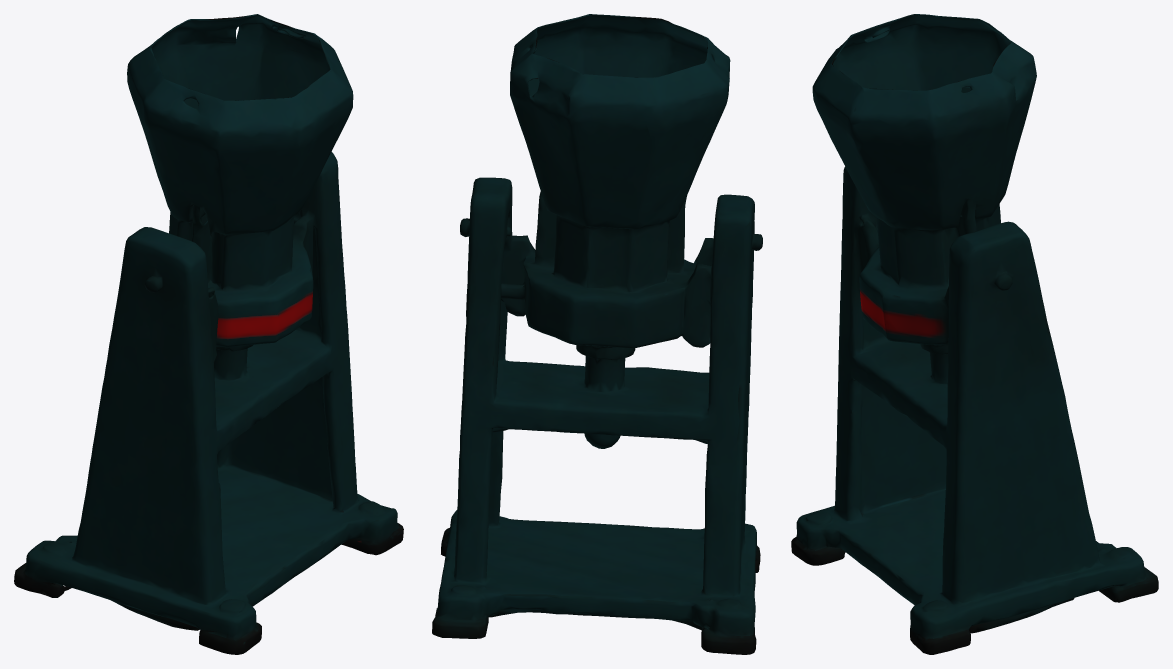
The model's file is gt_stamp_press_large.glb.
The picture shows the model from 3 angles, left to right: view 1: azimuth 30°, elevation 25°; view 2: azimuth 150°, elevation 25°; view 3: azimuth 270°, elevation 25°; orthographic projection. The views are drawn at different scales.
Bounding box in the file's own units: 0.5902 × 0.8859 × 0.5475.
Materials: 1 (1 with a texture image).
